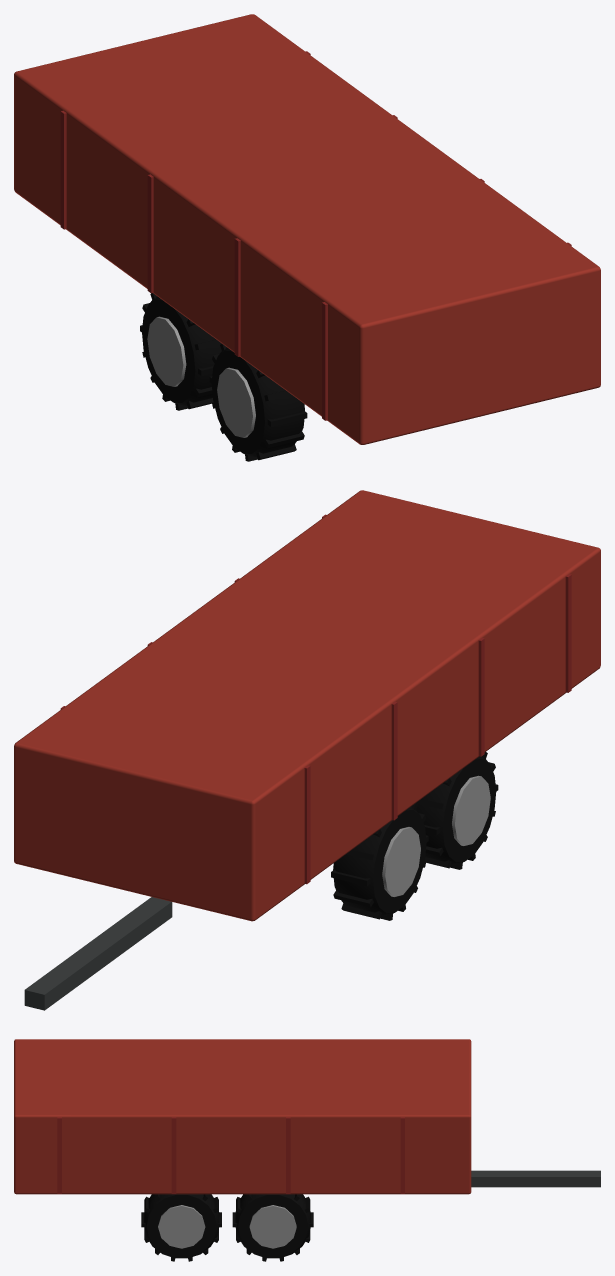
The model's file is vehicle.farm.trailer_grain.glb.
3 views of the same model, one above another, from view 1: azimuth 30°, elevation 25°; view 2: azimuth 150°, elevation 25°; view 3: azimuth 270°, elevation 25° (orthographic). The views are drawn at different scales.
Parts seen in each view (by area): view 1: main__enamel_932, main__rubber, main__paint_999, main__enamel_822; view 2: main__enamel_932, main__rubber, main__paint_333, main__paint_999, main__enamel_822; view 3: main__enamel_932, main__rubber, main__paint_999, main__paint_333, main__enamel_822.
Part boxes in pixels (<box>): main__enamel_932: <box>14,14,600,444</box>; main__rubber: <box>140,293,307,461</box>; main__paint_999: <box>147,316,255,437</box>; main__enamel_822: <box>60,51,571,420</box>; main__enamel_932: <box>14,490,600,921</box>; main__rubber: <box>331,752,498,920</box>; main__paint_333: <box>24,897,172,1010</box>; main__paint_999: <box>382,775,490,896</box>; main__enamel_822: <box>60,514,571,884</box>; main__enamel_932: <box>14,1039,471,1194</box>; main__rubber: <box>141,1194,313,1261</box>; main__paint_999: <box>158,1205,296,1248</box>; main__paint_333: <box>471,1170,600,1187</box>; main__enamel_822: <box>57,1117,404,1194</box>.
Bounding box in the file's own units: 2.45 × 2.15 × 7.7.
